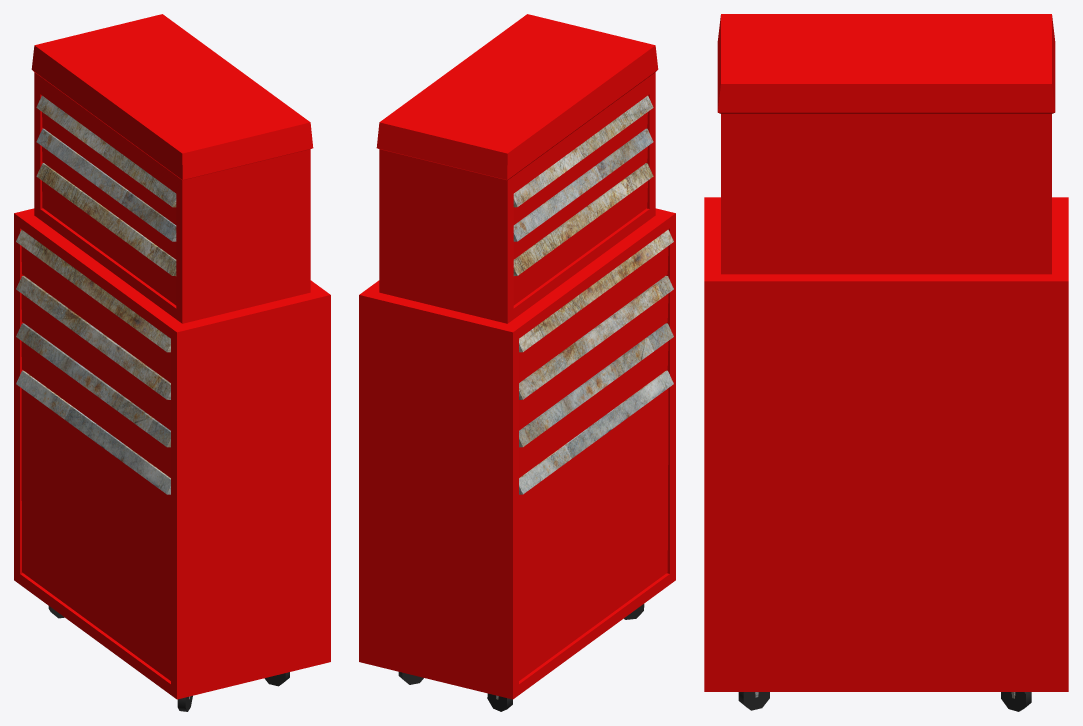
File: garage_toolbox_02.FBX
The picture shows the model from 3 angles, left to right: view 1: azimuth 30°, elevation 25°; view 2: azimuth 150°, elevation 25°; view 3: azimuth 270°, elevation 25°; orthographic projection. The views are drawn at different scales.
Visible parts, largest first — view 1: garage_toolbox_02; view 2: garage_toolbox_02; view 3: garage_toolbox_02.
Part boxes in pixels (x1,y1,x2,y2): garage_toolbox_02: [14, 14, 330, 711]; garage_toolbox_02: [359, 14, 675, 711]; garage_toolbox_02: [704, 14, 1068, 711].
Bounding box in the file's own units: 0.3082 × 1.06 × 0.55.
